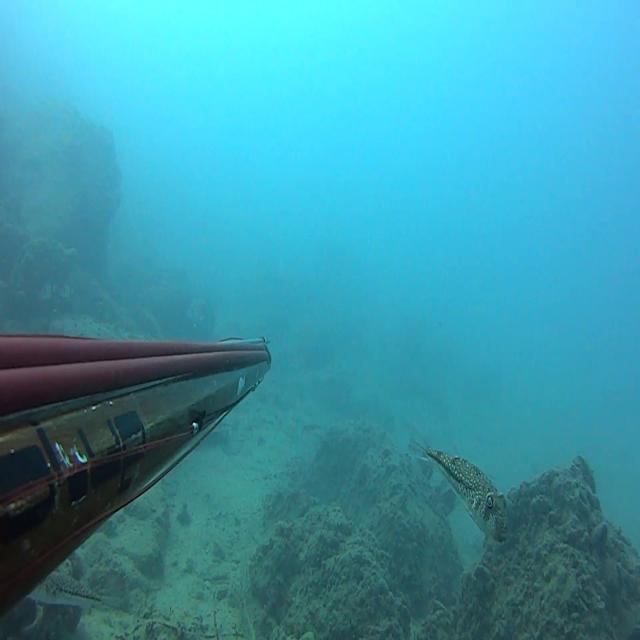Balon Baligi: (411, 427, 508, 542), (25, 569, 122, 614)
